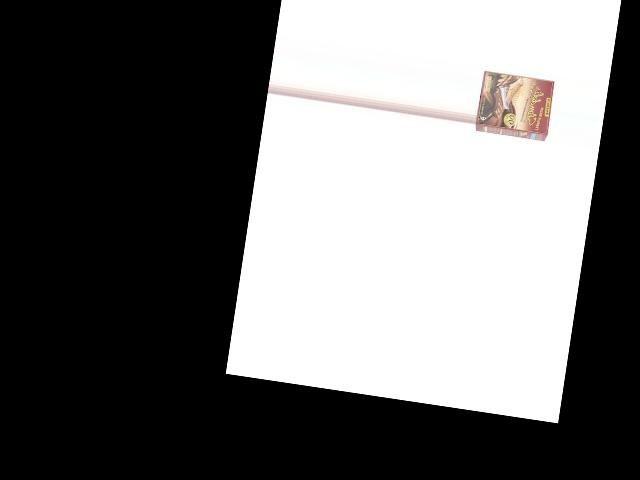chocolate: (473, 63, 557, 145)
